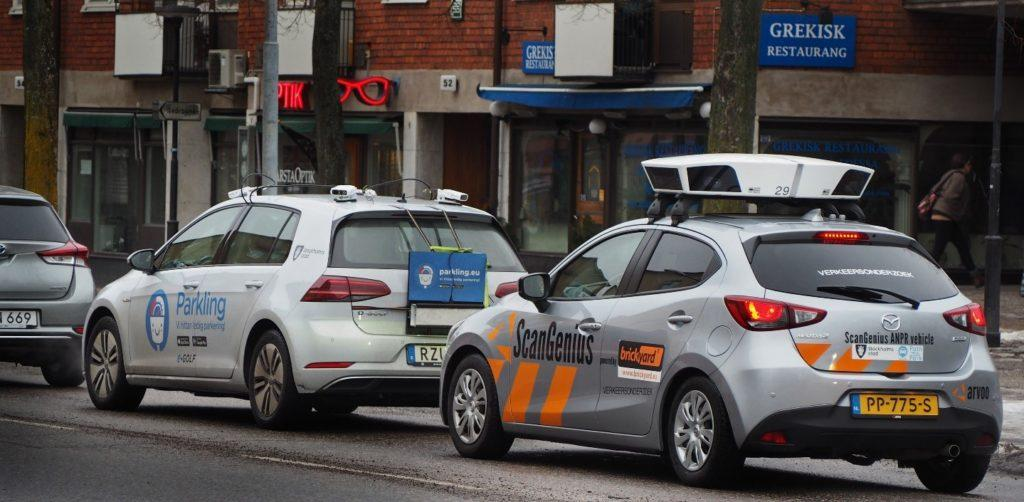license-plates: (848, 390, 943, 418)
